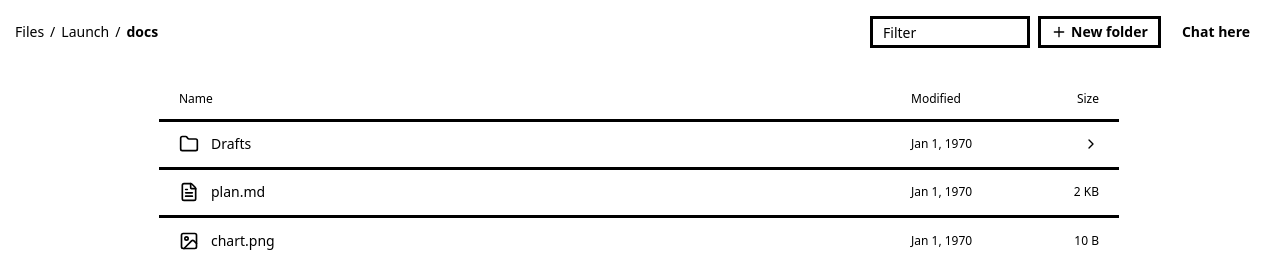
the Files page › filters the folder by name, and says when nothing matches
In the search field named "Filter this folder": (950, 32) [870,16,1030,48], type "PLAN"
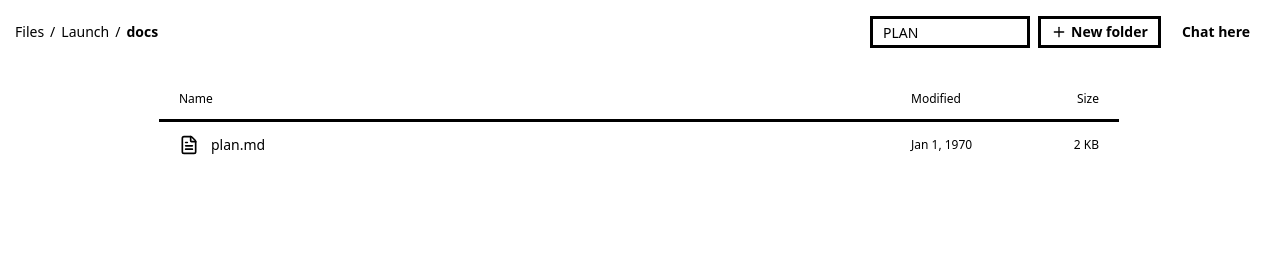
Replace the text in the search field named "Filter this folder" with "zzz": (950, 32) [870,16,1030,48]
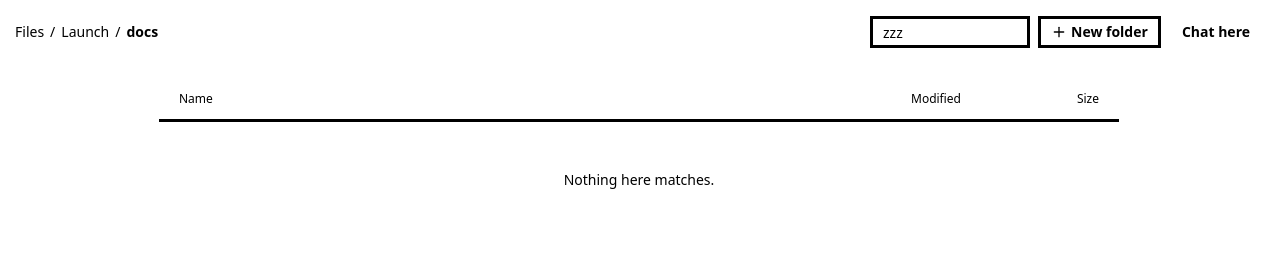
Check: the text "Nothing here matches." is shown, box [159,120,1119,238]
